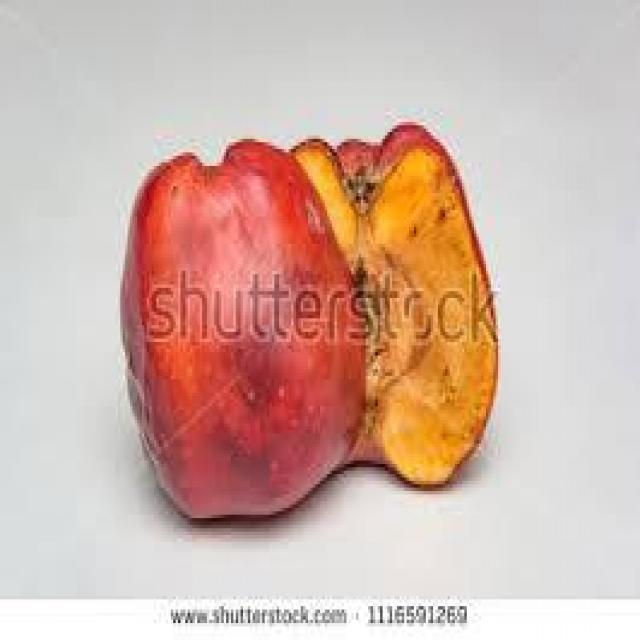Banana: (115, 152, 362, 543)
